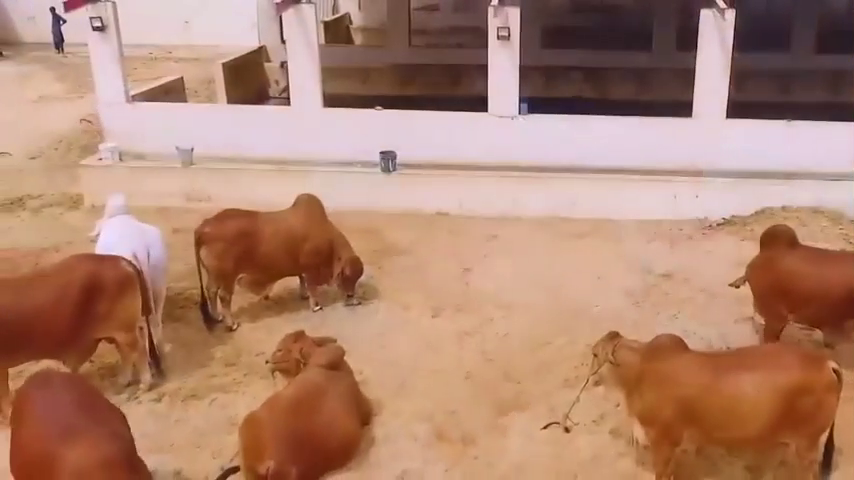bo: (572, 323, 844, 476), (186, 189, 382, 328), (4, 246, 168, 400), (231, 327, 390, 474), (9, 372, 171, 480), (77, 191, 189, 333), (722, 218, 851, 340)
